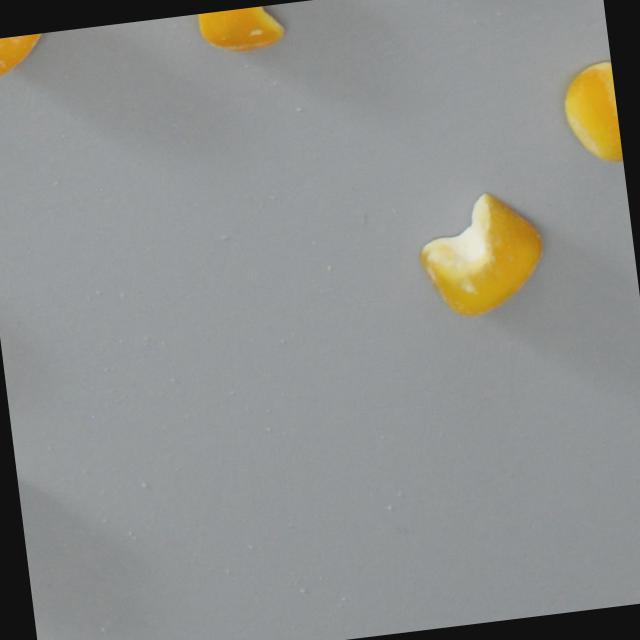no_canjicado: (557, 59, 623, 169), (195, 2, 292, 57)
pelicula: (412, 187, 549, 321), (0, 31, 56, 74)
